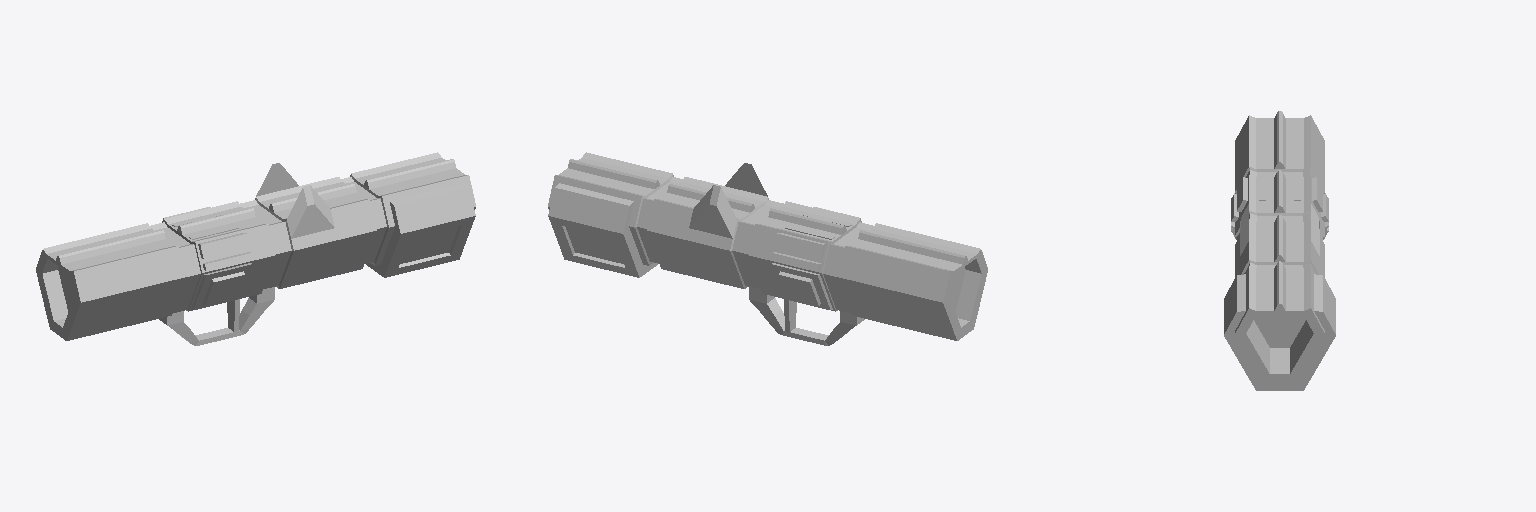
Rendered from RocketLauncherAlien.obj.
3 views of the same model, side by side, from view 1: azimuth 30°, elevation 25°; view 2: azimuth 150°, elevation 25°; view 3: azimuth 270°, elevation 25° (orthographic).
Parts seen in each view (by area): view 1: Cube; view 2: Cube; view 3: Cube.
Boxes of the visible parts, x1,y1,x2,y2 form: Cube: [36, 152, 475, 345]; Cube: [548, 152, 987, 345]; Cube: [1224, 111, 1335, 390].
Bounding box in the file's own units: 4.48 × 1.57 × 1.1.